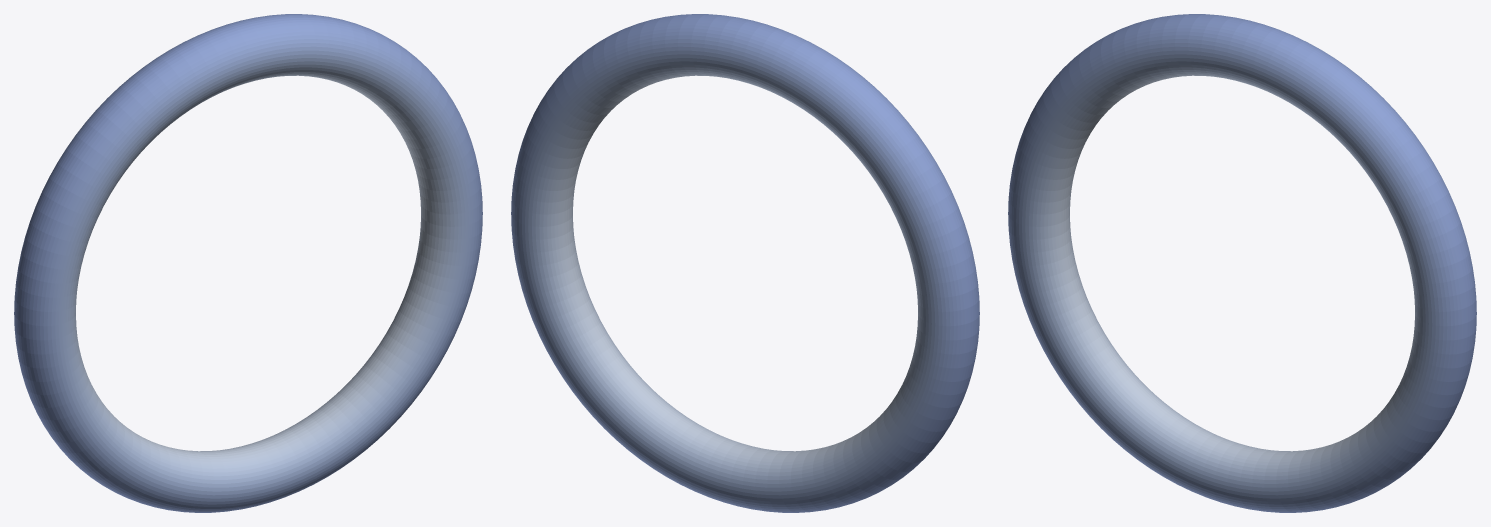
3 renders of one model, left to right at view 1: azimuth 30°, elevation 25°; view 2: azimuth 150°, elevation 25°; view 3: azimuth 330°, elevation 25°, orthographic.
Parts seen in each view (by area): view 1: world; view 2: world; view 3: world.
Part boxes in pixels (x1,y1,x2,y2): world: [14, 14, 482, 512]; world: [511, 14, 979, 512]; world: [1008, 14, 1476, 512].
Size of the model in its own units: 28.67 by 28.67 by 3.33.
